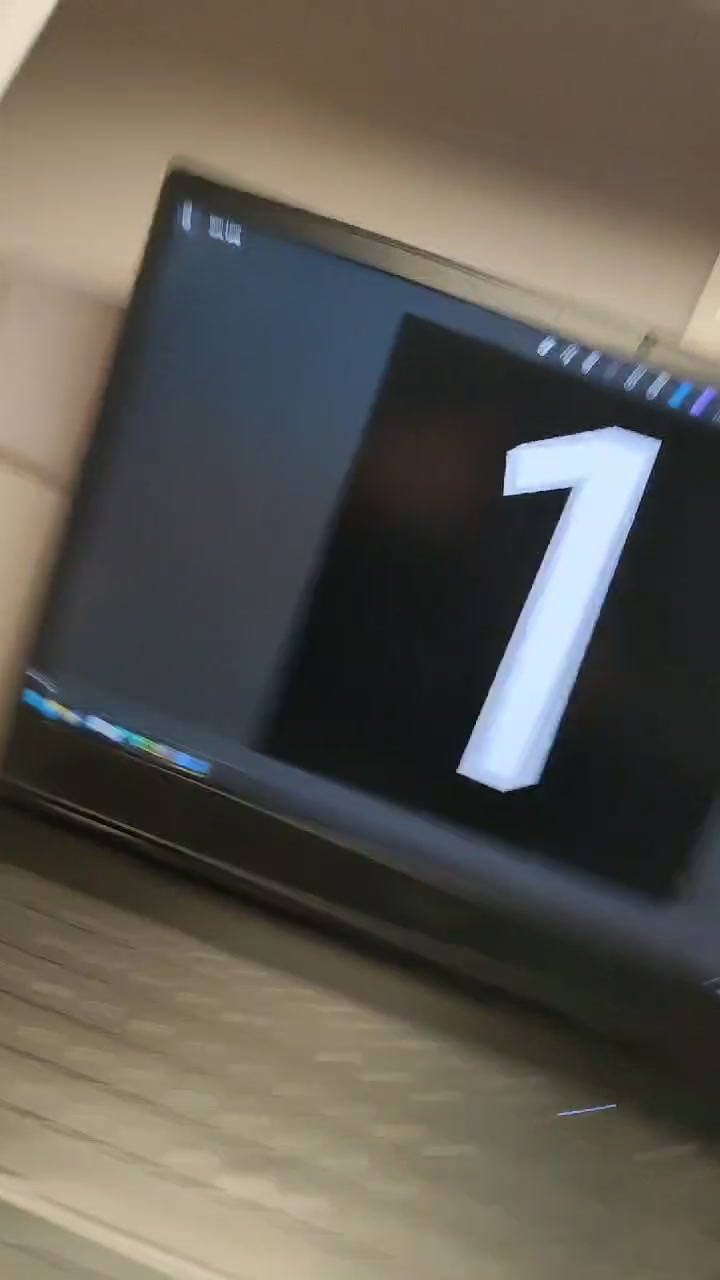one: (396, 339, 676, 828)
